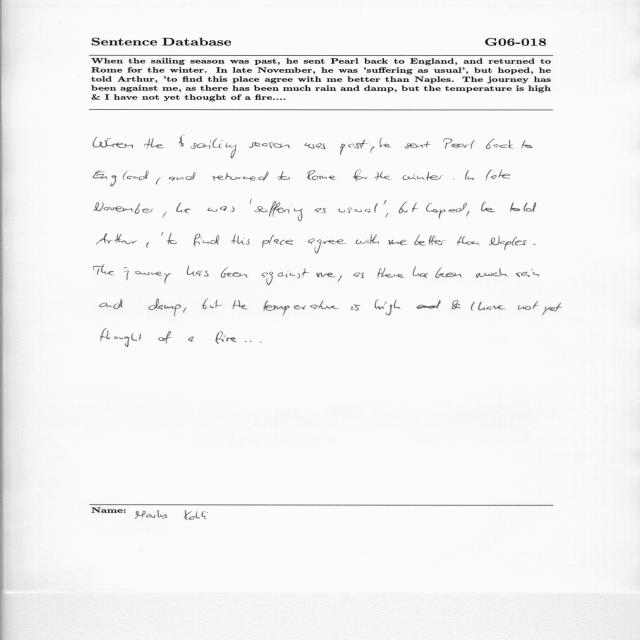word: (179, 135, 237, 158), (263, 301, 339, 316), (254, 201, 303, 221), (94, 170, 149, 186), (262, 268, 309, 285), (124, 267, 171, 283), (101, 329, 142, 347), (94, 202, 153, 214), (426, 203, 467, 219), (308, 238, 347, 254), (148, 299, 181, 317), (212, 172, 269, 182), (489, 236, 527, 250), (93, 137, 133, 149), (97, 234, 137, 245), (340, 140, 368, 155), (375, 300, 401, 316), (262, 235, 293, 248), (338, 203, 378, 213), (402, 172, 443, 181), (443, 138, 475, 149), (414, 235, 446, 246), (476, 267, 508, 278), (193, 234, 219, 247), (471, 302, 506, 311), (307, 170, 337, 180), (221, 267, 248, 278), (378, 268, 405, 279), (435, 267, 462, 278), (486, 139, 514, 149), (486, 170, 511, 181), (216, 331, 237, 344), (510, 202, 536, 212), (542, 303, 562, 316), (249, 142, 291, 148), (169, 172, 196, 181), (187, 266, 209, 277), (355, 234, 379, 244), (144, 138, 165, 149), (457, 236, 480, 246), (399, 202, 418, 214), (416, 300, 441, 309), (100, 299, 122, 309), (93, 265, 114, 275), (231, 234, 250, 245), (405, 141, 431, 149), (202, 299, 222, 309), (516, 269, 539, 277), (158, 331, 172, 344), (413, 266, 428, 278), (518, 301, 538, 310), (176, 203, 191, 214), (208, 206, 235, 212), (353, 170, 367, 181), (482, 202, 496, 213), (375, 172, 391, 181), (233, 300, 248, 309), (166, 233, 177, 245), (305, 143, 326, 149), (277, 171, 290, 180), (380, 138, 392, 147), (316, 273, 336, 278), (388, 240, 407, 245), (465, 170, 474, 180), (522, 140, 533, 148), (452, 300, 461, 309), (353, 273, 364, 279), (351, 304, 360, 311), (314, 208, 326, 213), (156, 178, 161, 185), (188, 337, 194, 342), (163, 211, 167, 218), (338, 275, 342, 282), (371, 147, 375, 153), (466, 211, 469, 217), (146, 242, 149, 248), (183, 307, 186, 313), (384, 200, 387, 205), (386, 213, 389, 218), (250, 199, 252, 204), (162, 232, 164, 236), (245, 341, 251, 342), (534, 244, 536, 245), (453, 179, 454, 180)
